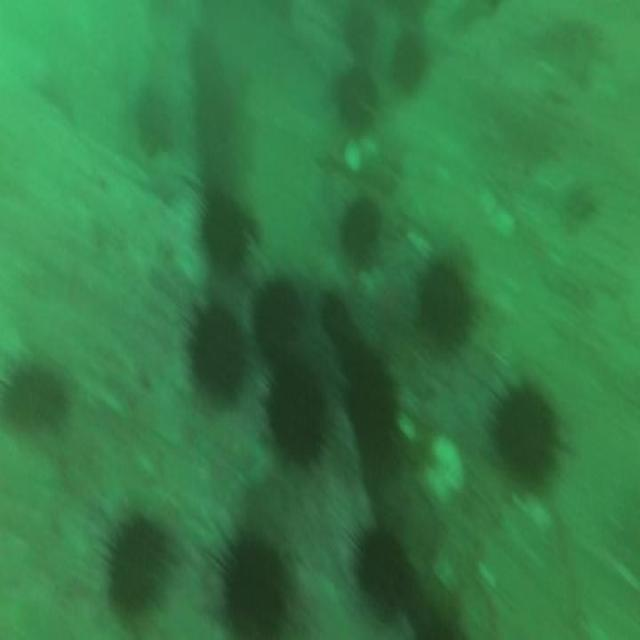echinus: (498, 384, 556, 485), (226, 537, 284, 637), (113, 517, 167, 619), (343, 335, 393, 436), (270, 365, 326, 455), (187, 311, 241, 403), (358, 526, 410, 616), (254, 273, 305, 359), (7, 364, 64, 434), (422, 265, 469, 343), (202, 199, 247, 272), (336, 196, 382, 261), (336, 68, 380, 126), (390, 35, 424, 95), (323, 292, 350, 346)
scallop: (342, 138, 361, 169)
